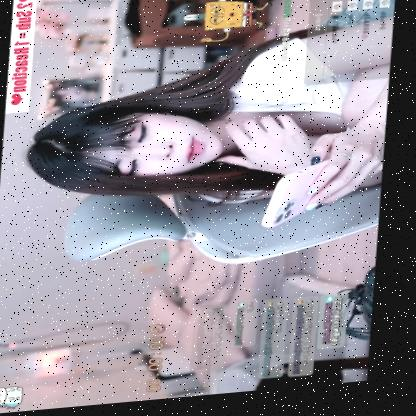donation: (177, 0, 298, 75)
streamer: (25, 25, 398, 248)
